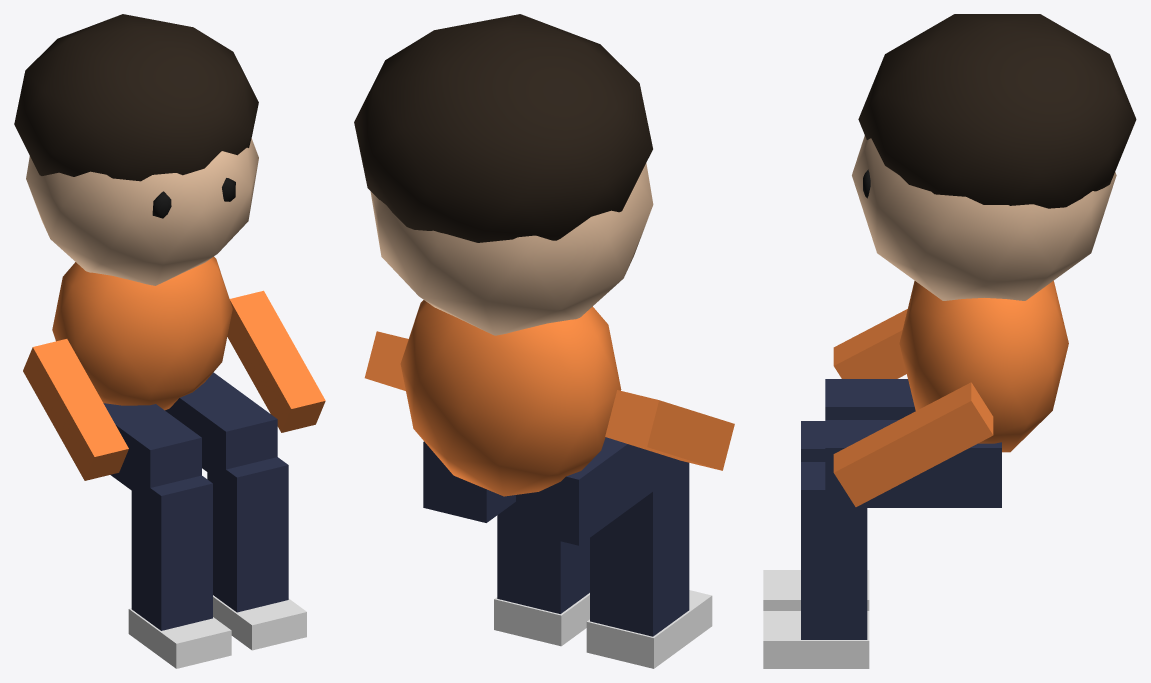
Rendered from character_sit.glb.
3 renders of one model, left to right at view 1: azimuth 30°, elevation 25°; view 2: azimuth 150°, elevation 25°; view 3: azimuth 270°, elevation 25°, orthographic. The views are drawn at different scales.
Parts seen in each view (by area): view 1: hair, head, torso, shin, shin.001, arm, arm.001, thigh.001, thigh, shoe, shoe.001; view 2: hair, torso, head, shin, thigh, shin.001, arm, shoe, thigh.001, shoe.001, arm.001; view 3: hair, head, torso, shin.001, arm.001, thigh.001, shoe.001, thigh, arm, shoe, shin.
Boxes of the visible parts, <box> form: hair: <box>14,14,258,181</box>; head: <box>26,138,258,285</box>; torso: <box>52,256,232,410</box>; shin: <box>131,474,212,630</box>; shin.001: <box>207,456,288,612</box>; arm: <box>23,339,128,480</box>; arm.001: <box>227,290,325,432</box>; thigh.001: <box>165,372,277,485</box>; thigh: <box>103,403,201,503</box>; shoe: <box>128,608,231,668</box>; shoe.001: <box>213,595,306,650</box>; hair: <box>354,14,652,242</box>; torso: <box>400,300,621,496</box>; head: <box>370,163,653,335</box>; shin: <box>590,458,689,636</box>; thigh: <box>516,437,675,545</box>; shin.001: <box>497,502,589,613</box>; arm: <box>605,390,734,470</box>; shoe: <box>586,590,712,668</box>; thigh.001: <box>423,441,515,522</box>; shoe.001: <box>494,593,589,646</box>; arm.001: <box>364,331,408,390</box>; hair: <box>858,14,1136,208</box>; head: <box>852,135,1116,300</box>; torso: <box>899,280,1068,452</box>; shin.001: <box>801,462,867,639</box>; arm.001: <box>833,382,993,506</box>; thigh.001: <box>825,420,1001,507</box>; shoe.001: <box>763,611,869,668</box>; thigh: <box>825,379,915,419</box>; arm: <box>833,309,907,378</box>; shoe: <box>763,570,869,610</box>; shin: <box>801,421,825,461</box>.
Size of the model in its own units: 0.672 by 1.52 by 0.845.
